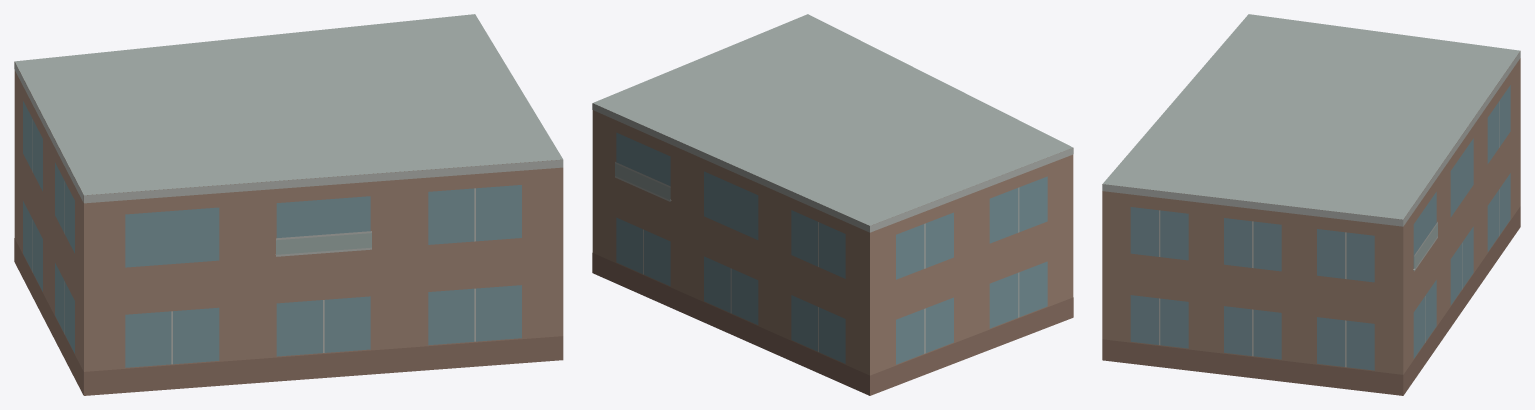
Rendered from survey-upis-33020092.glb.
The picture shows the model from 3 angles, left to right: view 1: azimuth 30°, elevation 25°; view 2: azimuth 150°, elevation 25°; view 3: azimuth 270°, elevation 25°; orthographic projection. The views are drawn at different scales.
Visible parts, largest first — view 1: survey-upis-33020092.tmp; view 2: survey-upis-33020092.tmp; view 3: survey-upis-33020092.tmp.
Boxes of the visible parts, x1,y1,x2,y2 form: survey-upis-33020092.tmp: (14,14,563,395); survey-upis-33020092.tmp: (592,14,1073,395); survey-upis-33020092.tmp: (1102,14,1520,395).
Size of the model in its own units: 15.27 by 6.1 by 13.13.
